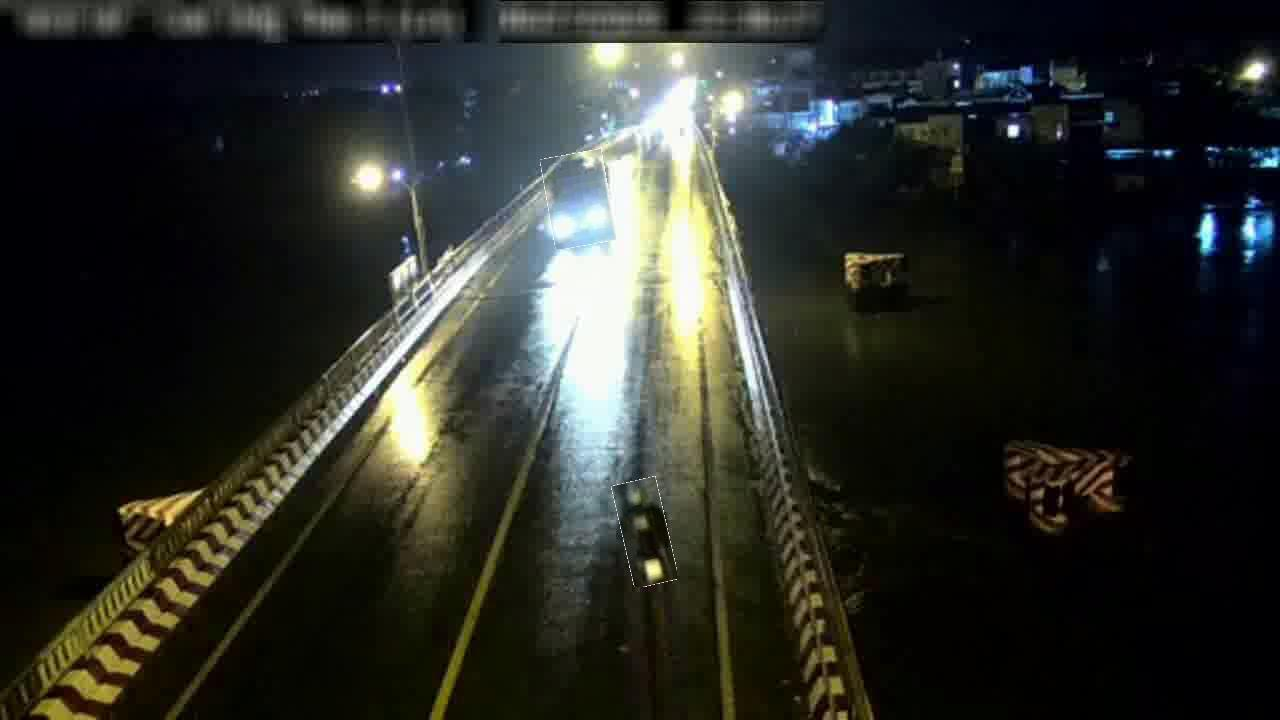container: (544, 152, 614, 248)
motorbike: (617, 478, 673, 587)
